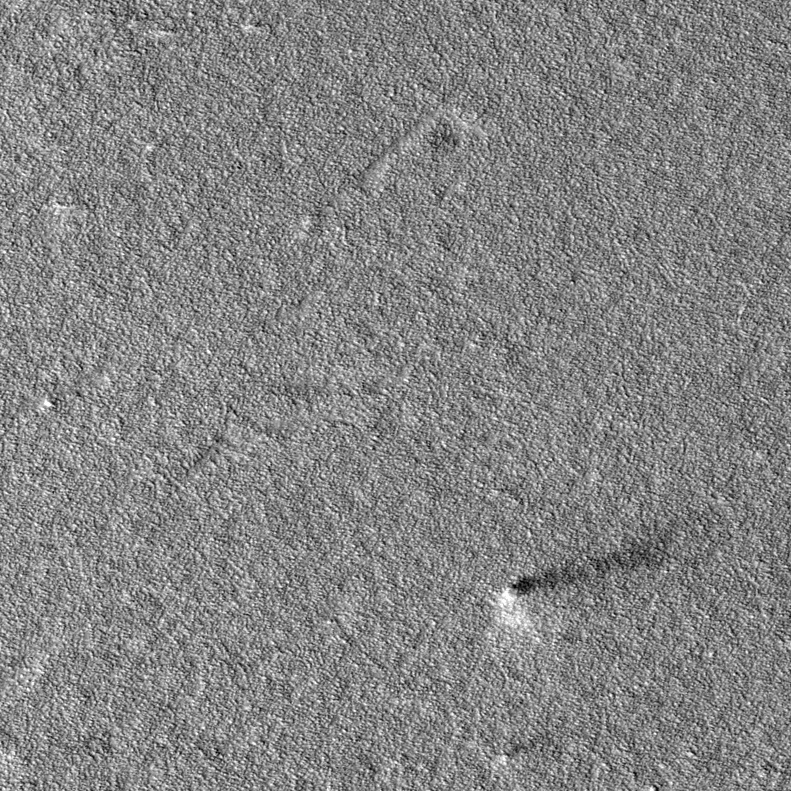dust_devil: (498, 522, 676, 631), (496, 728, 553, 768)
